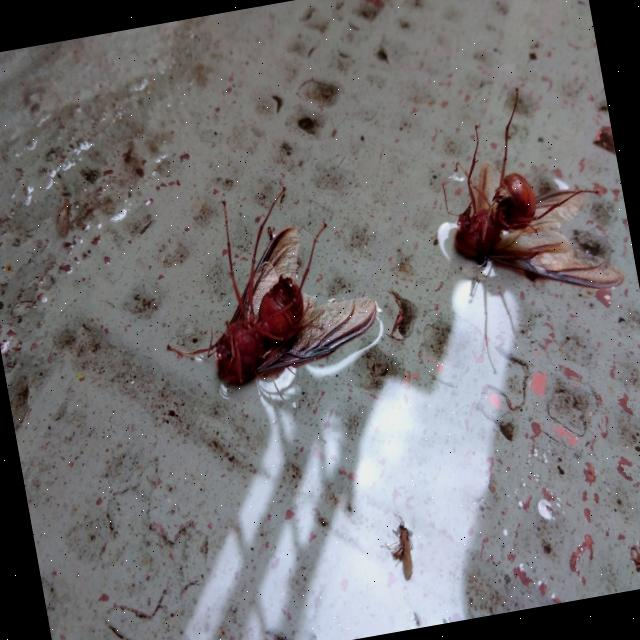Dead-Male-Alate: (142, 173, 385, 398), (427, 74, 626, 314)
